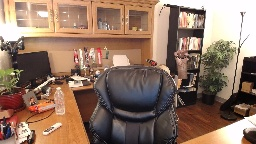Pugno: (172, 48, 192, 63)
